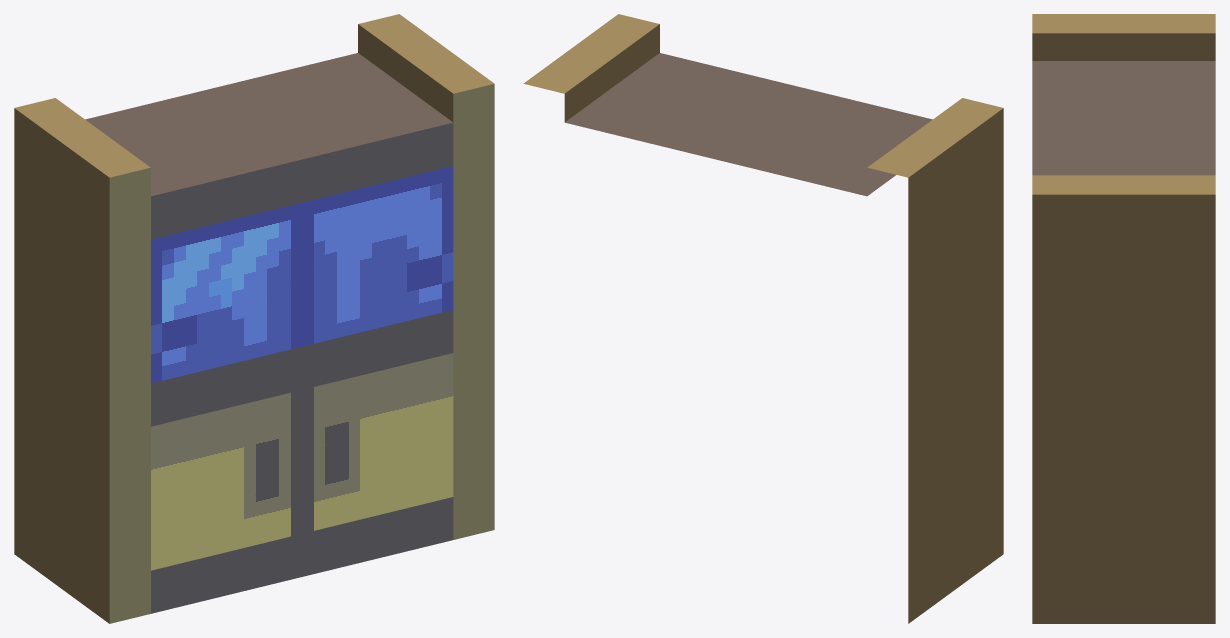
The model's file is hgss-prop-interieur-068.glb.
The picture shows the model from 3 angles, left to right: view 1: azimuth 30°, elevation 25°; view 2: azimuth 150°, elevation 25°; view 3: azimuth 270°, elevation 25°; orthographic projection. The views are drawn at different scales.
Parts seen in each view (by area): view 1: shelf05; view 2: shelf05; view 3: shelf05.
Boxes of the visible parts, x1,y1,x2,y2 form: shelf05: (14, 14, 494, 623); shelf05: (523, 14, 1003, 623); shelf05: (1032, 14, 1215, 623).
Size of the model in its own units: 1.75 by 1.94 by 0.75.
1 material, 1 textured.
